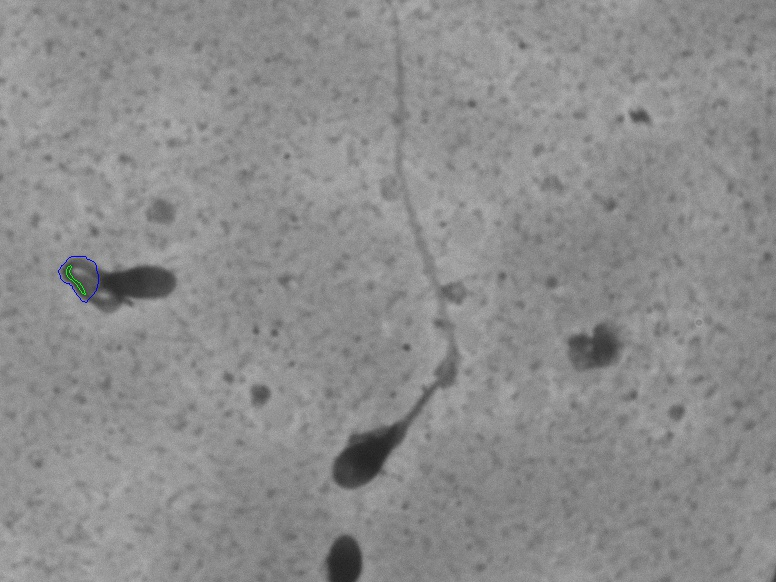Abnormal: (262, 42, 518, 520), (33, 210, 193, 344)
